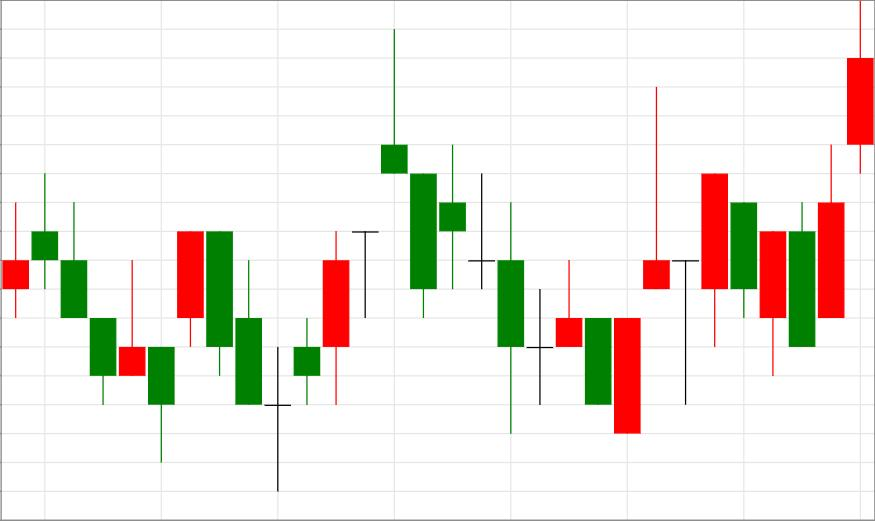shooting_star_fall: (264, 28, 408, 492)
